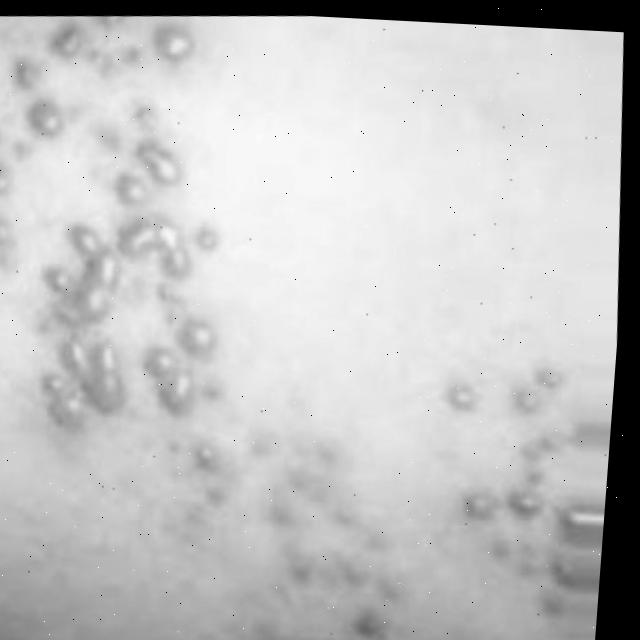Shingles: (0, 5, 246, 460), (430, 342, 577, 585), (251, 411, 393, 614)
